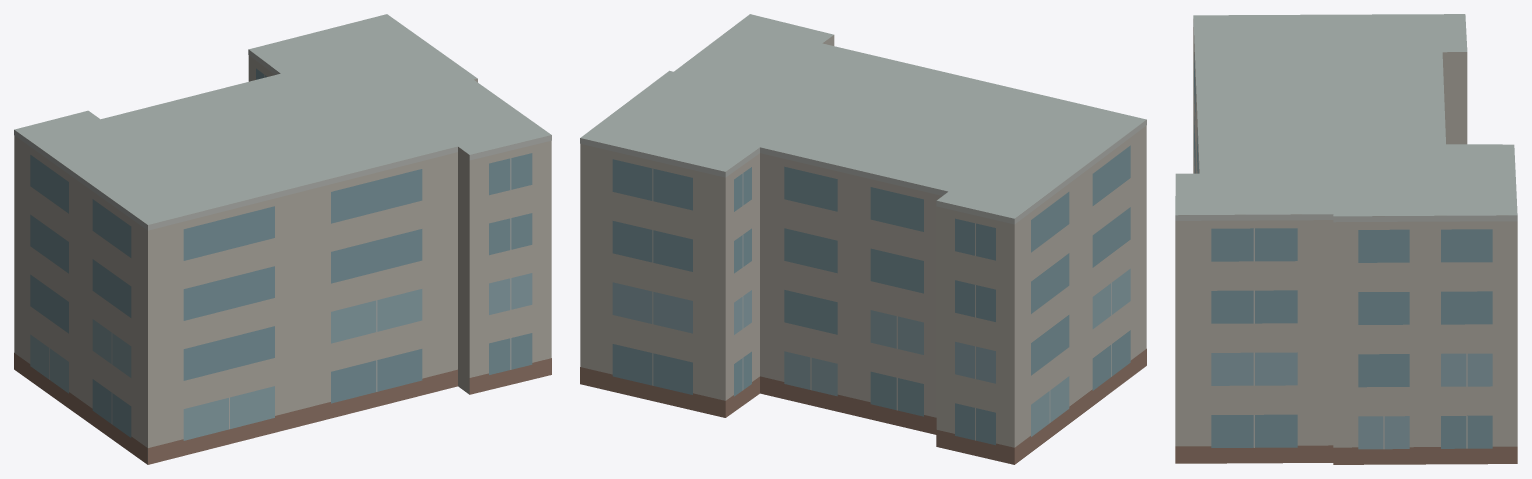
File: survey-upis-32870667.glb
The picture shows the model from 3 angles, left to right: view 1: azimuth 30°, elevation 25°; view 2: azimuth 150°, elevation 25°; view 3: azimuth 270°, elevation 25°; orthographic projection. The views are drawn at different scales.
Parts seen in each view (by area): view 1: survey-upis-32870667.tmp; view 2: survey-upis-32870667.tmp; view 3: survey-upis-32870667.tmp.
Part boxes in pixels (box(x1,y1,x2,y2)): survey-upis-32870667.tmp: box(14, 14, 551, 464); survey-upis-32870667.tmp: box(580, 14, 1146, 464); survey-upis-32870667.tmp: box(1175, 14, 1517, 464).
Bounding box in the file's own units: 18.17 × 10.4 × 12.99.
